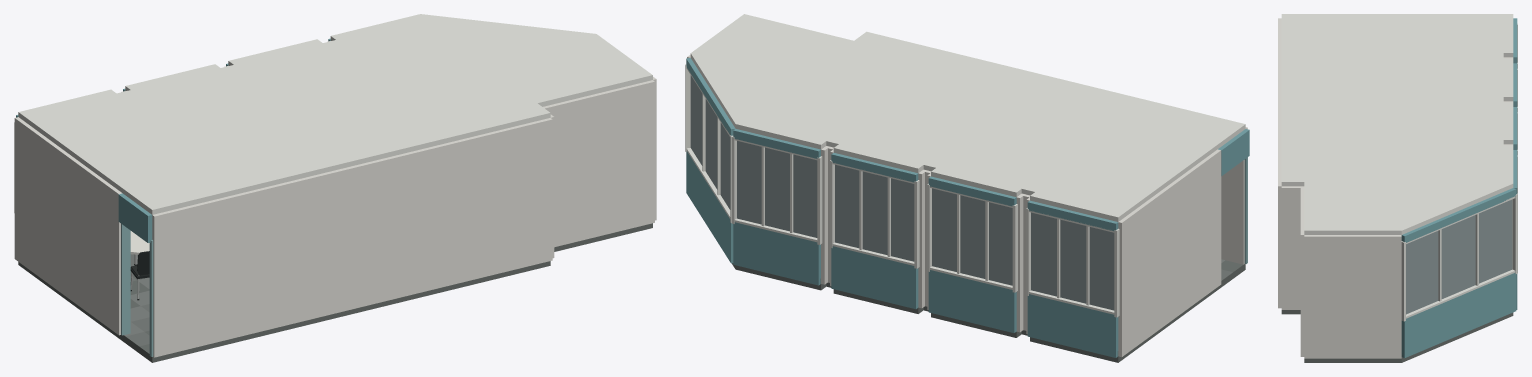
File: faw-103-interior-17b000584726.glb
3 renders of one model, left to right at view 1: azimuth 30°, elevation 25°; view 2: azimuth 150°, elevation 25°; view 3: azimuth 270°, elevation 25°, orthographic. The views are drawn at different scales.
Visible parts, largest first — view 1: faw-103; view 2: faw-103; view 3: faw-103.
Boxes of the visible parts, x1,y1,x2,y2 form: faw-103: (14,14,656,362); faw-103: (685,14,1249,362); faw-103: (1278,14,1517,362).
Size of the model in its own units: 11.04 by 3.09 by 5.08.
